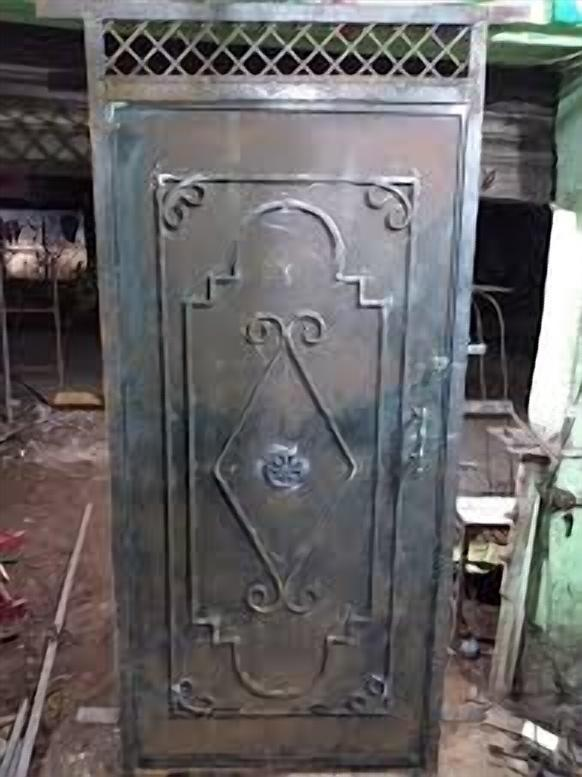Gate: (85, 0, 491, 777)
